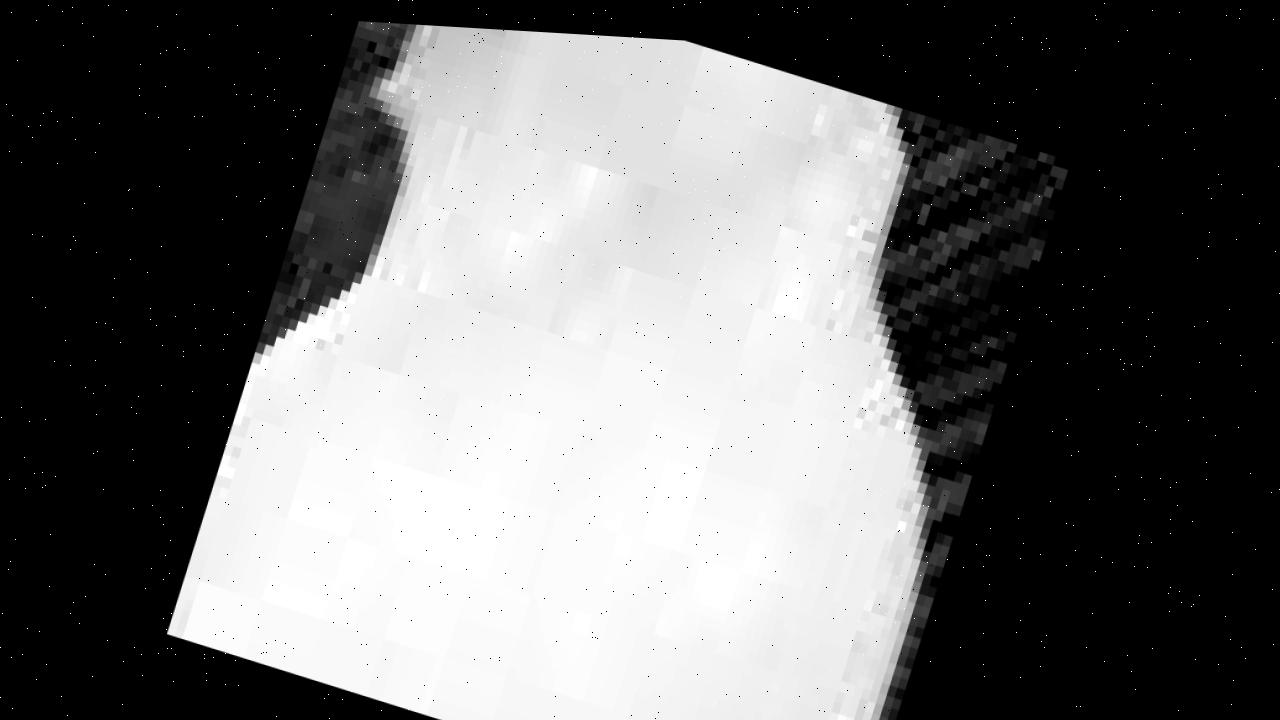drinks Stains: (169, 9, 1076, 720)
